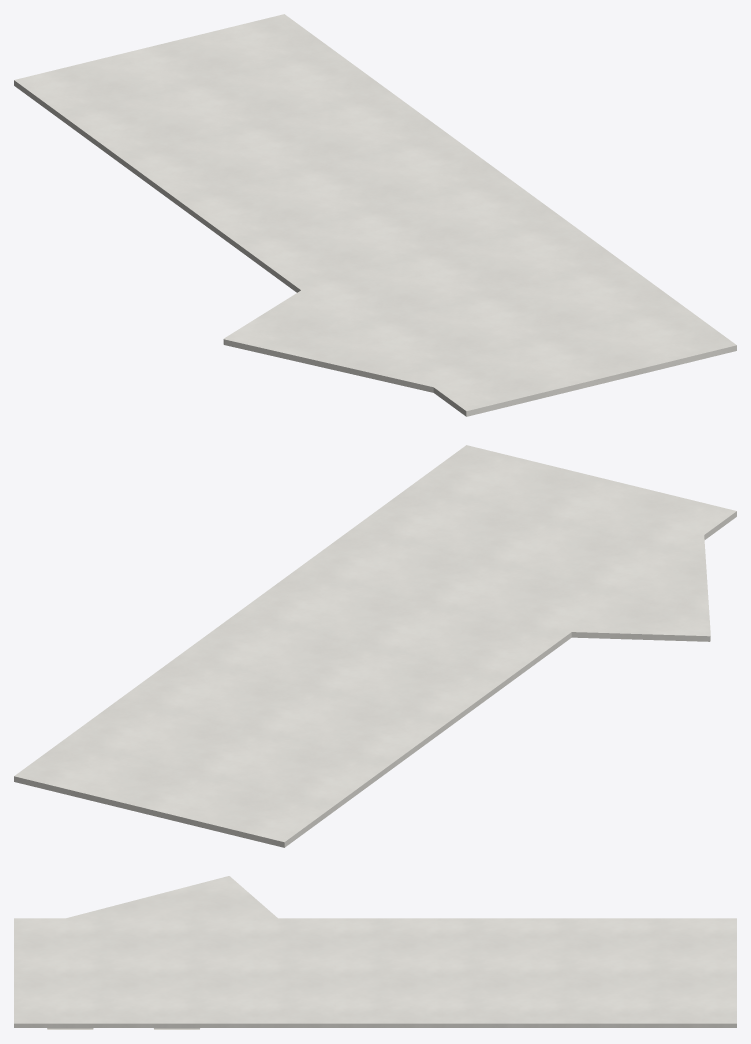
File: SM_Teto.fbx
3 views of the same model, one above another, from view 1: azimuth 30°, elevation 25°; view 2: azimuth 150°, elevation 25°; view 3: azimuth 270°, elevation 25° (orthographic). The views are drawn at different scales.
Parts seen in each view (by area): view 1: SM_Teto; view 2: SM_Teto; view 3: SM_Teto.
Part boxes in pixels (x1,y1,x2,y2): SM_Teto: (14, 14, 736, 416); SM_Teto: (14, 445, 736, 847); SM_Teto: (14, 876, 736, 1029).
Size of the model in its own units: 1403 by 35.44 by 2905.
